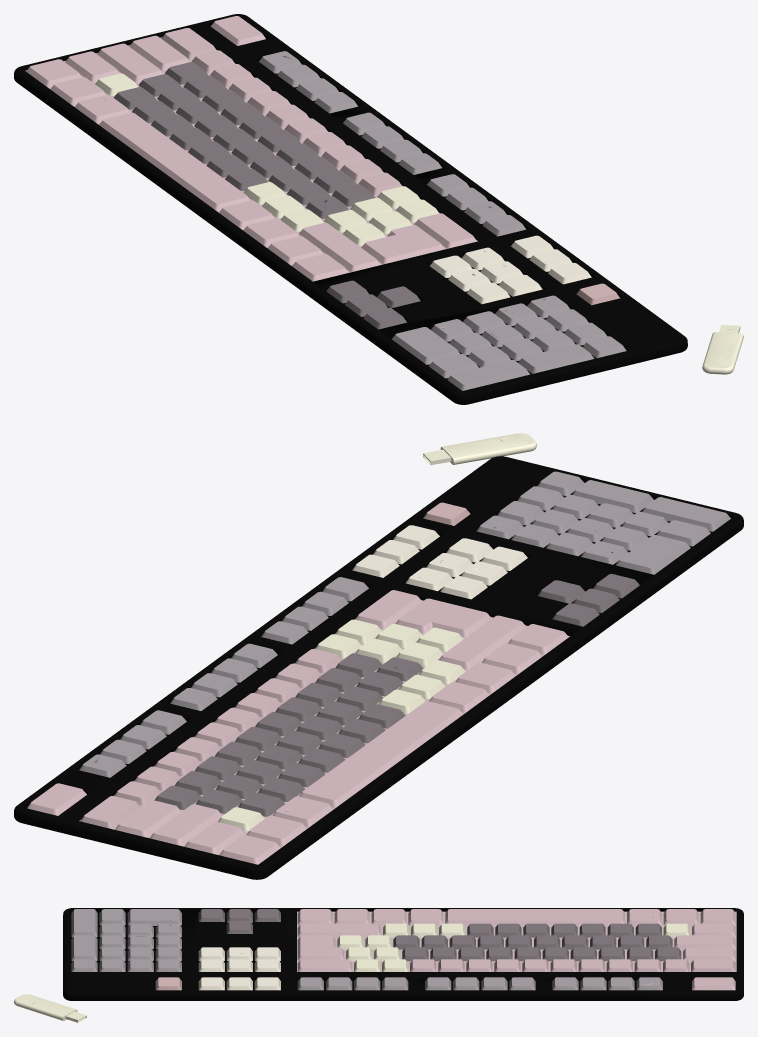
File: Keyboard.obj
3 renders of one model, top to bottom at view 1: azimuth 30°, elevation 25°; view 2: azimuth 150°, elevation 25°; view 3: azimuth 270°, elevation 25°, orthographic. The views are drawn at different scales.
Parts seen in each view (by area): view 1: Keyboard; view 2: Keyboard; view 3: Keyboard.
Part boxes in pixels (bbox=[...]): Keyboard: bbox=[14, 14, 743, 404]; Keyboard: bbox=[14, 433, 743, 879]; Keyboard: bbox=[14, 908, 743, 1022].
Bounding box in the file's own units: 2902 × 154 × 8320.
